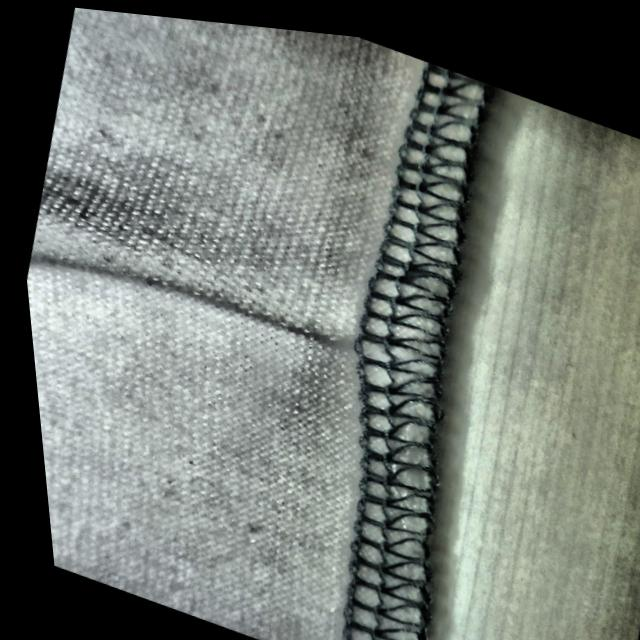seam: (117, 190, 460, 422)
